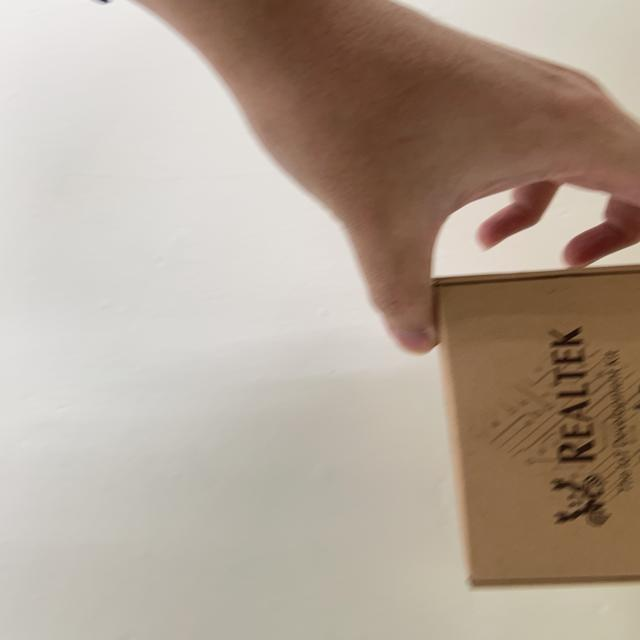box: (419, 255, 640, 601)
